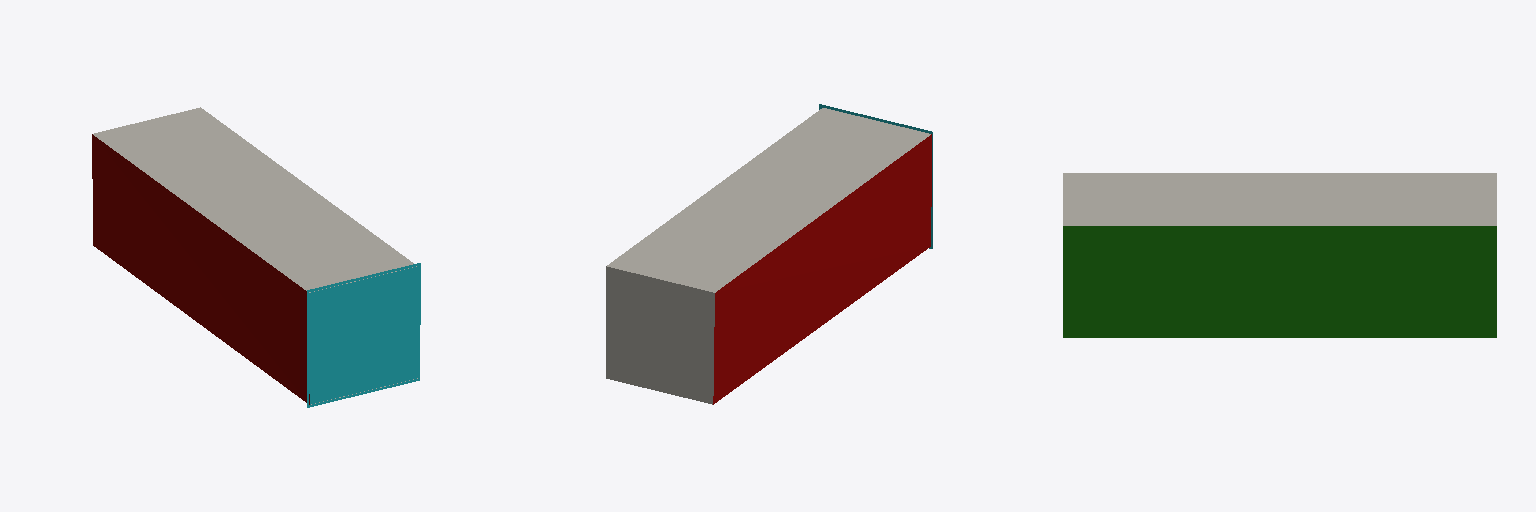
The model's file is suzanne.obj.
The picture shows the model from 3 angles: view 1: azimuth 30°, elevation 25°; view 2: azimuth 150°, elevation 25°; view 3: azimuth 270°, elevation 25°; orthographic projection.
Visible parts, largest first — view 1: Object_5, Object_3, Object_2.001; view 2: Object_5, Object_3, Object_2; view 3: Object_7, Object_3.
Part boxes in pixels (x1,y1,x2,y2): Object_5: (92, 134, 309, 404); Object_3: (93, 107, 416, 292); Object_2.001: (307, 263, 420, 407); Object_5: (713, 134, 931, 404); Object_3: (607, 108, 930, 292); Object_2: (606, 266, 714, 404); Object_7: (1063, 226, 1496, 337); Object_3: (1063, 173, 1496, 225).
Size of the model in its own units: 2.12 by 2.09 by 6.98.